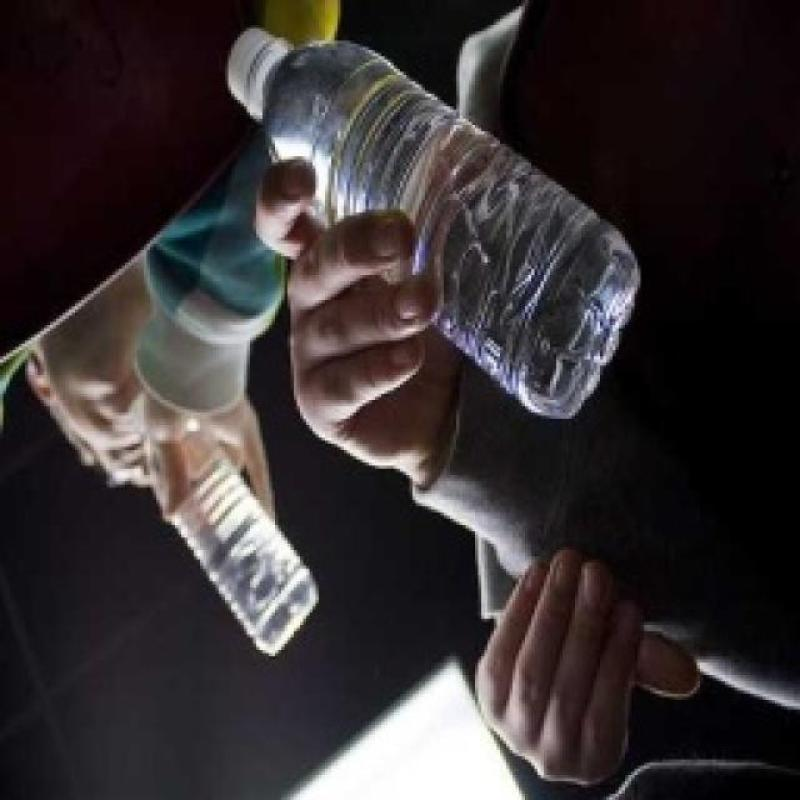botella: (226, 26, 646, 424), (139, 410, 320, 660)
